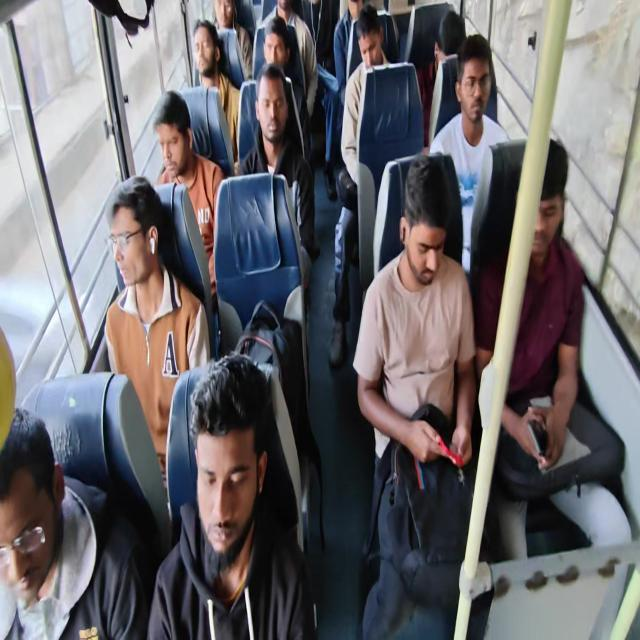person: (0, 397, 70, 598), (190, 389, 254, 558), (522, 142, 574, 268), (392, 164, 451, 272), (104, 192, 152, 284), (156, 98, 198, 179), (256, 69, 290, 154), (458, 54, 494, 116), (428, 18, 469, 64), (354, 16, 385, 68), (194, 25, 220, 75), (263, 26, 286, 80), (212, 0, 238, 28)
